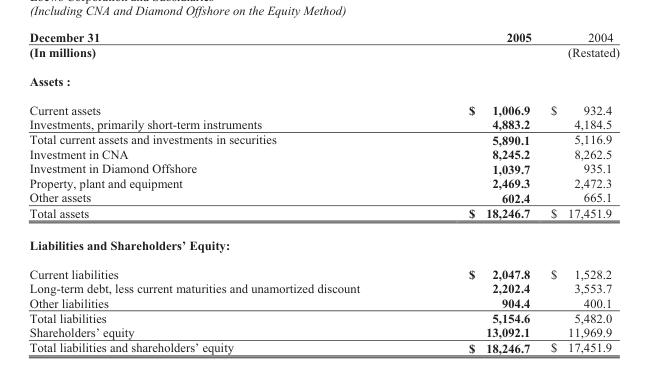table: (28, 29, 618, 354)
table column: (28, 29, 413, 354), (413, 29, 540, 354), (540, 29, 618, 354)
table column header: (28, 29, 618, 66)
table projected row header: (28, 228, 618, 258), (28, 66, 618, 95)
table row: (28, 29, 618, 66), (28, 228, 618, 258), (28, 66, 618, 95), (28, 204, 618, 228), (28, 258, 618, 280), (28, 95, 618, 116), (28, 116, 618, 131), (28, 131, 618, 146), (28, 146, 618, 161), (28, 175, 618, 190), (28, 280, 618, 295), (28, 295, 618, 310), (28, 324, 618, 339), (28, 339, 618, 354), (28, 161, 618, 175), (28, 190, 618, 204), (28, 310, 618, 324)
